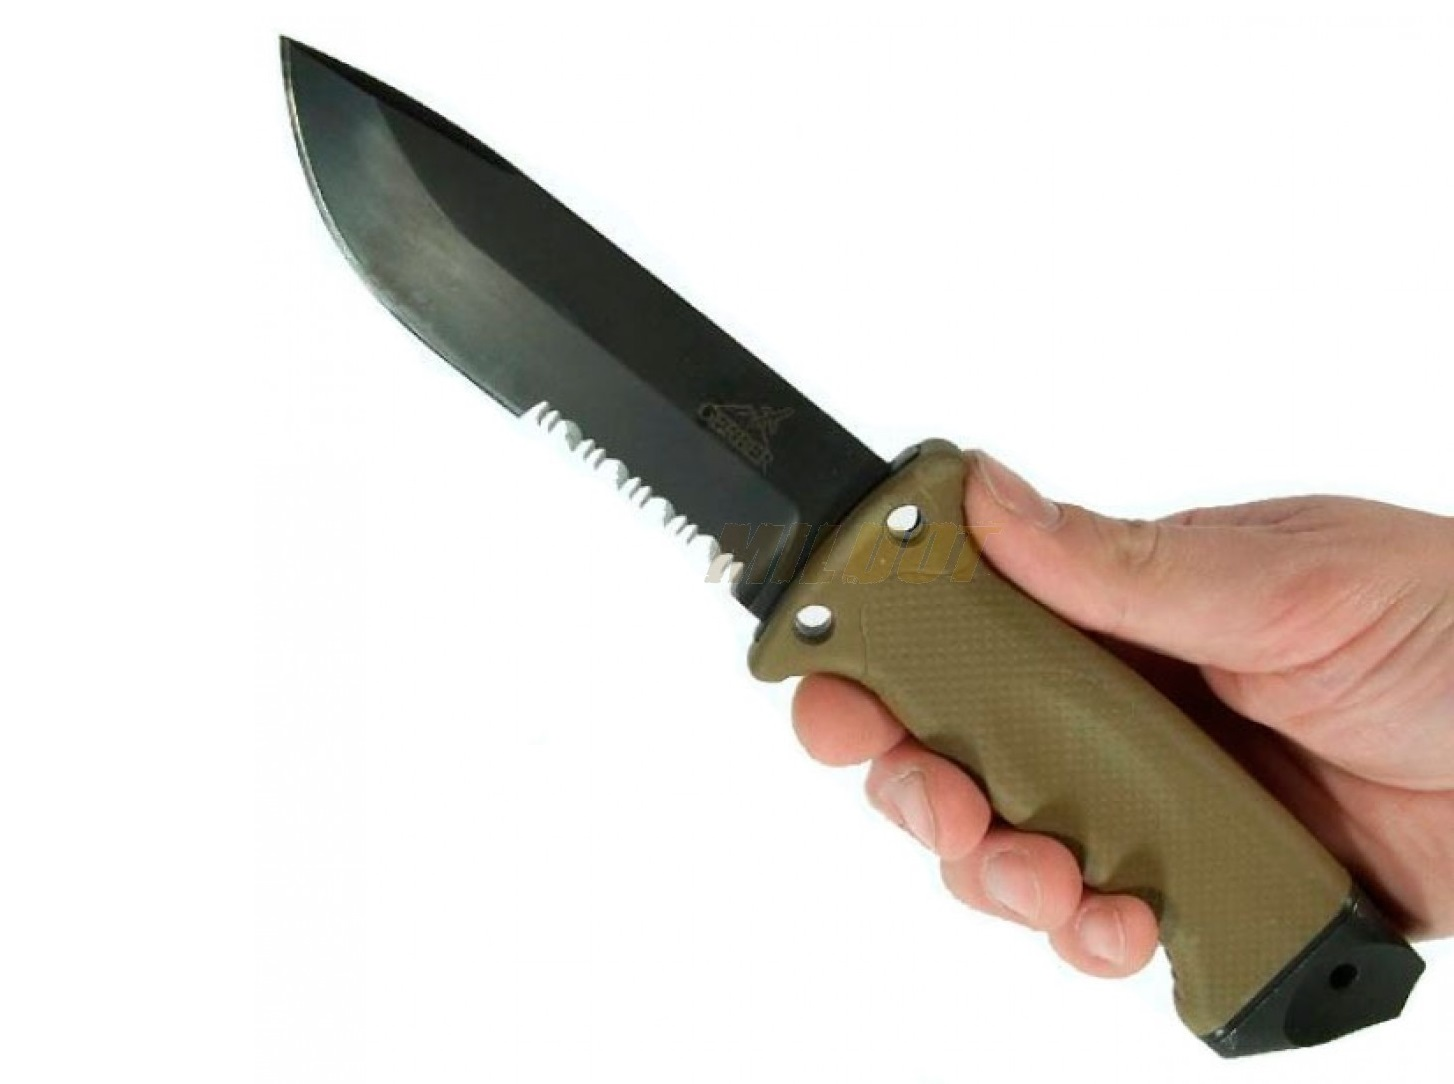knife: (254, 16, 1163, 979)
